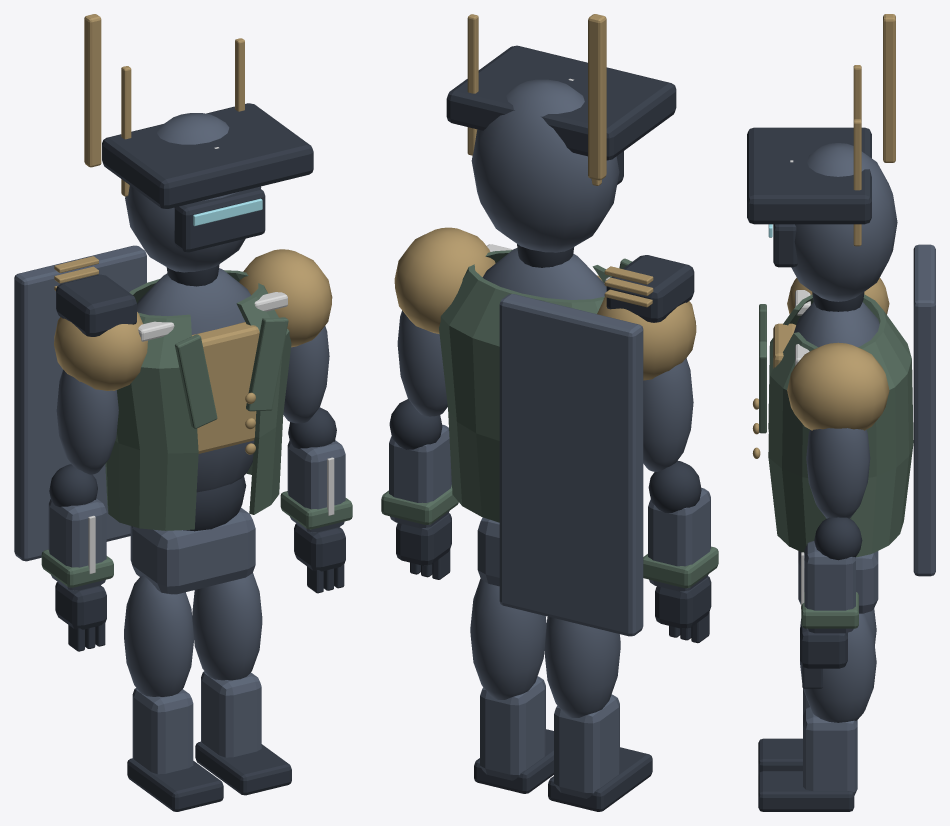
The model's file is watcher.glb.
3 views of the same model, side by side, from view 1: azimuth 30°, elevation 25°; view 2: azimuth 150°, elevation 25°; view 3: azimuth 270°, elevation 25° (orthographic). The views are drawn at different scales.
Visible parts, largest first — view 1: Surveyor field jacket, Watchtower asymmetric cape, Observer visor hood, Pelvis, Thigh R, Articulated thorax, Thigh L, Helmet, Sternum shield, Shoulder L, Shoulder R, Upper arm R (+23 smaller); view 2: Watchtower asymmetric cape, Helmet, Surveyor field jacket, Observer visor hood, Thigh L, Shoulder L, Thigh R, Shin L, Shin R, Upper arm R, Bracer R, Bracer L (+16 smaller); view 3: Surveyor field jacket, Observer visor hood, Helmet, Watchtower asymmetric cape, Shoulder L, Upper arm L, Thigh L, Shin L, Bracer L, Foot L, Articulated thorax, Long range aerial (+13 smaller).
Part boxes in pixels (<box>): Surveyor field jacket: <box>105,270,291,530</box>; Watchtower asymmetric cape: <box>14,245,146,561</box>; Observer visor hood: <box>102,103,313,208</box>; Pelvis: <box>130,507,255,594</box>; Thigh R: <box>124,576,193,696</box>; Articulated thorax: <box>137,268,254,492</box>; Thigh L: <box>192,573,262,680</box>; Helmet: <box>125,113,261,272</box>; Sternum shield: <box>192,322,259,453</box>; Shoulder L: <box>239,249,332,347</box>; Shoulder R: <box>54,312,147,390</box>; Upper arm R: <box>56,369,118,474</box>; Watchtower asymmetric cape: <box>499,294,643,636</box>; Helmet: <box>471,79,619,252</box>; Surveyor field jacket: <box>439,250,611,522</box>; Observer visor hood: <box>446,45,676,160</box>; Thigh L: <box>470,578,546,699</box>; Shoulder L: <box>394,227,495,333</box>; Thigh R: <box>544,616,620,717</box>; Shin L: <box>480,676,545,780</box>; Shin R: <box>554,694,619,798</box>; Upper arm R: <box>643,358,693,471</box>; Bracer R: <box>648,488,710,591</box>; Bracer L: <box>389,424,451,528</box>; Surveyor field jacket: <box>768,294,913,557</box>; Observer visor hood: <box>747,127,871,224</box>; Helmet: <box>791,143,897,301</box>; Watchtower asymmetric cape: <box>913,244,935,576</box>; Shoulder L: <box>787,342,889,430</box>; Upper arm L: <box>806,428,870,518</box>; Thigh L: <box>800,613,876,722</box>; Shin L: <box>803,707,857,795</box>; Bracer L: <box>804,541,855,633</box>; Foot L: <box>758,771,854,811</box>; Articulated thorax: <box>794,302,879,347</box>; Long range aerial: <box>883,14,895,162</box>.
Bounding box in the file's own units: 1 × 2.53 × 0.59.
